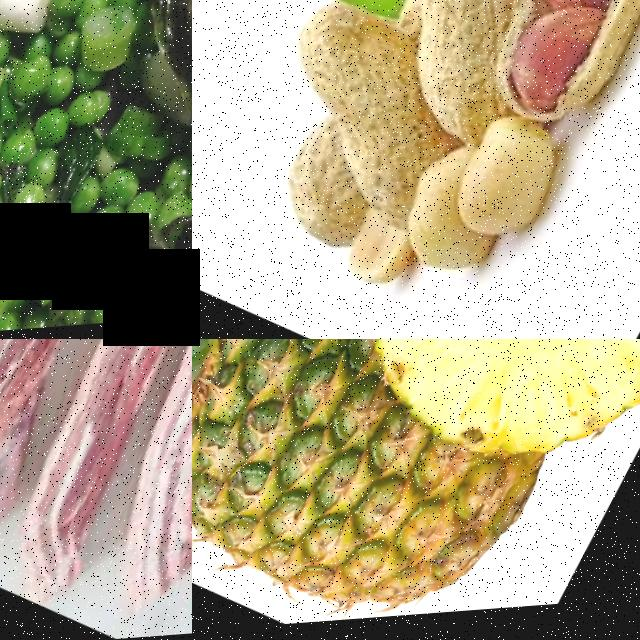peanuts: (270, 0, 433, 148), (258, 124, 397, 266), (442, 108, 576, 254), (494, 0, 611, 122), (379, 0, 544, 60), (538, 0, 640, 27)
peas: (0, 49, 118, 178), (49, 229, 192, 333)
pineapple: (192, 339, 554, 640), (327, 339, 640, 488)
pork belly: (0, 339, 192, 595), (0, 339, 192, 577), (87, 339, 192, 596)
